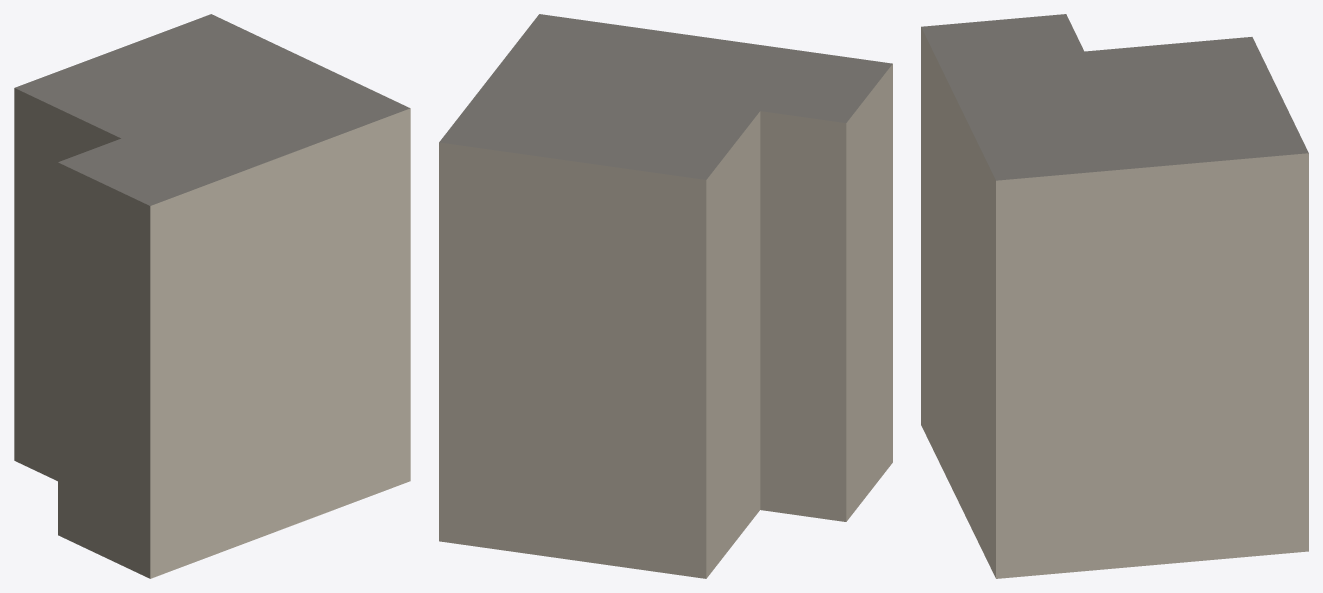
The picture shows the model from 3 angles, left to right: view 1: azimuth 30°, elevation 25°; view 2: azimuth 150°, elevation 25°; view 3: azimuth 270°, elevation 25°; orthographic projection. The views are drawn at different scales.
Visible parts, largest first — view 1: HP-w303313603; view 2: HP-w303313603; view 3: HP-w303313603.
Boxes of the visible parts, left/top/right/bottom form: HP-w303313603: left=14, top=14, right=410, bottom=578; HP-w303313603: left=439, top=14, right=892, bottom=578; HP-w303313603: left=921, top=14, right=1308, bottom=578.
Size of the model in its own units: 13.46 by 15 by 13.24.
